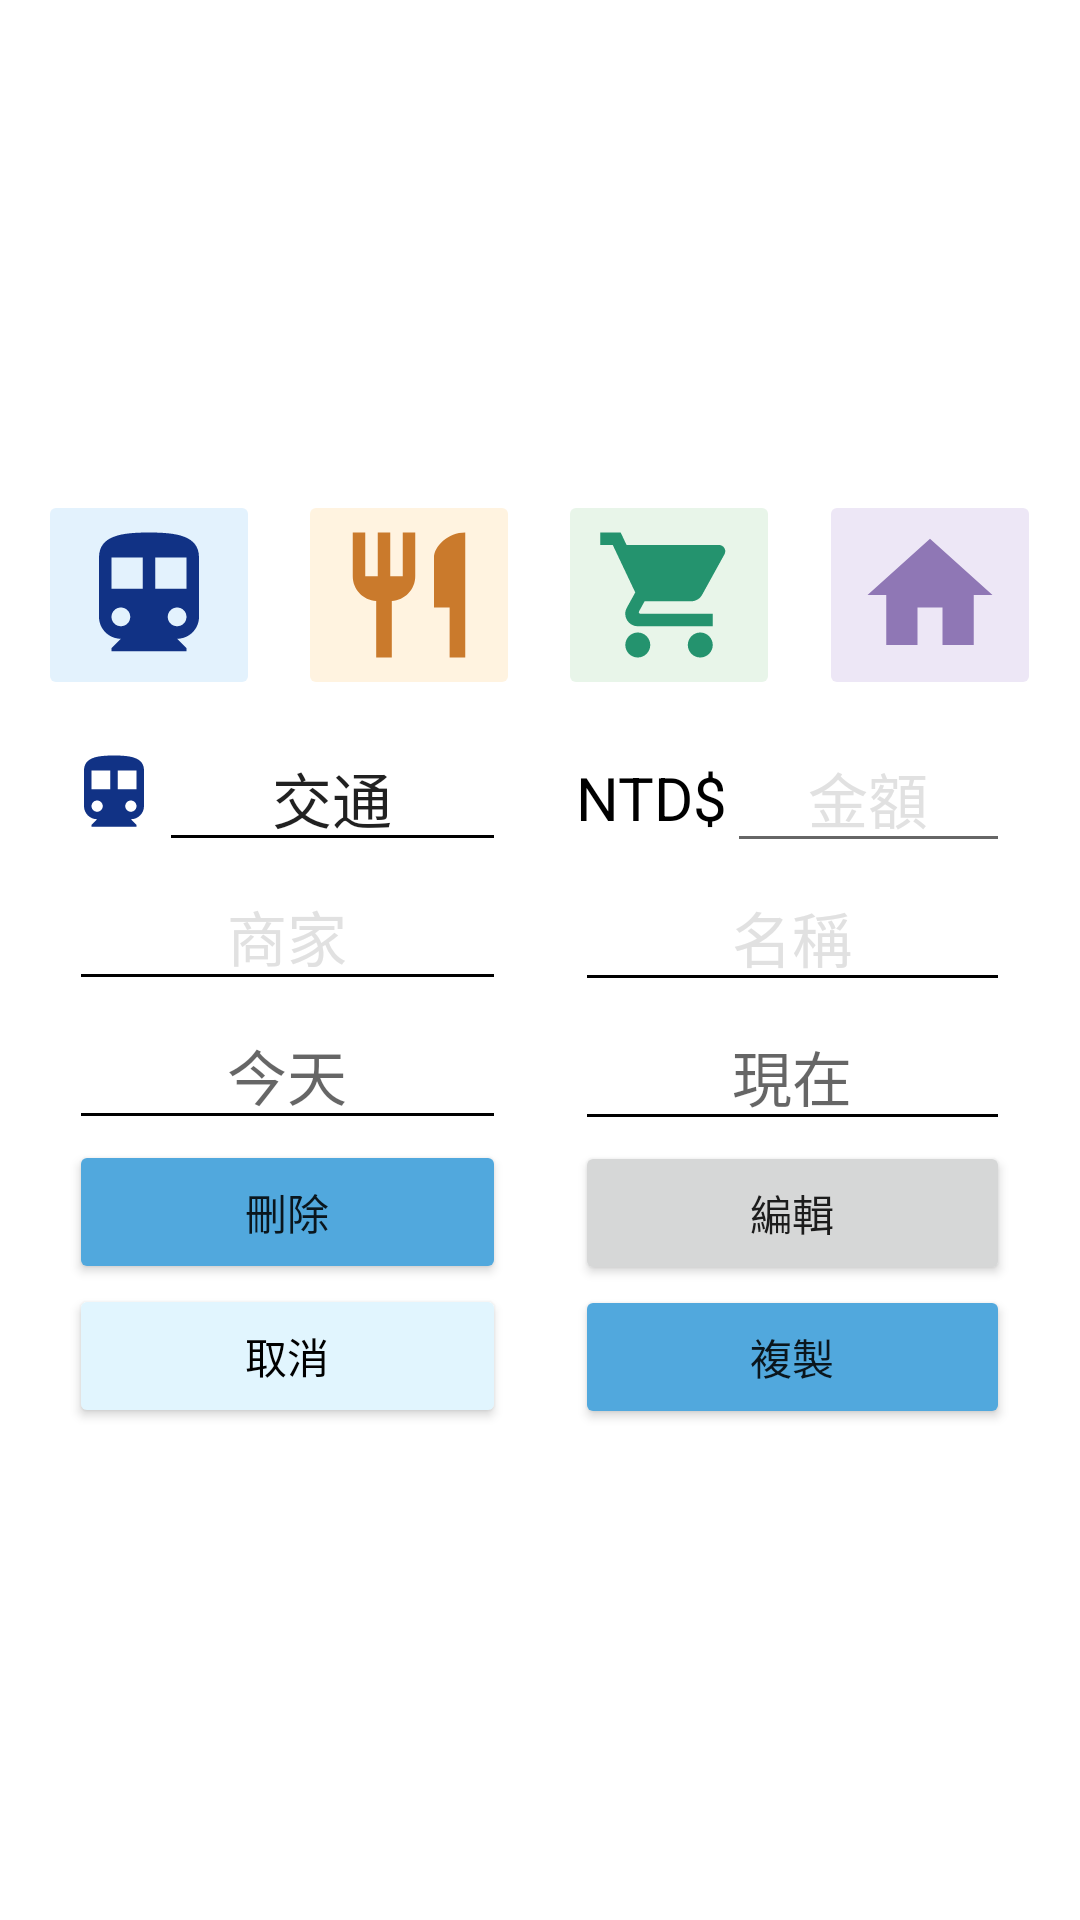

Where to tap for icons on this 1080px x 1920px app screen, as (x,y):
food: (409,595)
home: (930,591)
shopping: (669,595)
transportation: (149,595), (114,791)
